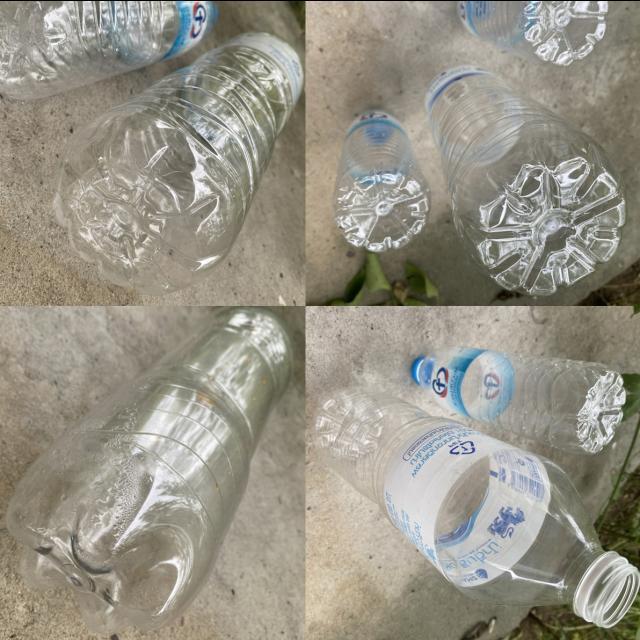plastik: (6, 306, 293, 631), (311, 386, 640, 627), (54, 31, 303, 294), (425, 65, 626, 296), (412, 345, 625, 453), (0, 0, 218, 98), (334, 109, 429, 251), (457, 0, 608, 65)
